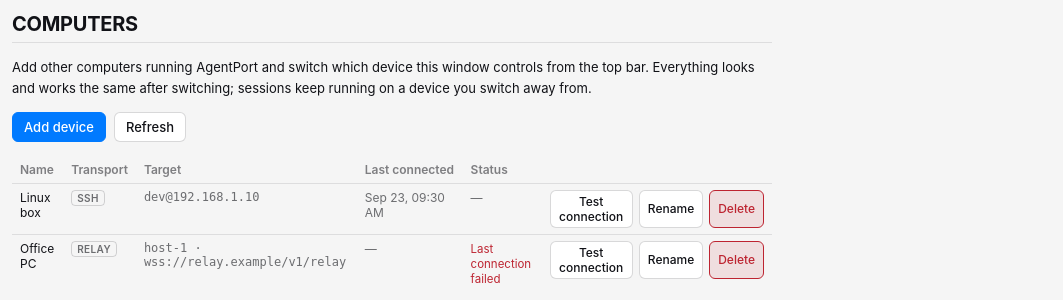
Test: renames a device inline
Expected: the text "Linux box" is shown, [12,183,63,234]
Click the button "Rename" in the row of "Linux box" at [671, 209], box [639,190,703,228]
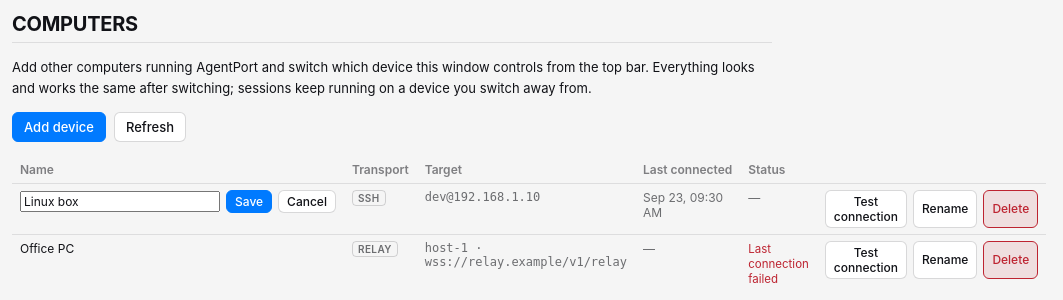
Replace the text in the field named "Device name" with "Renamed box" at [120, 201], box [20,191,220,212]
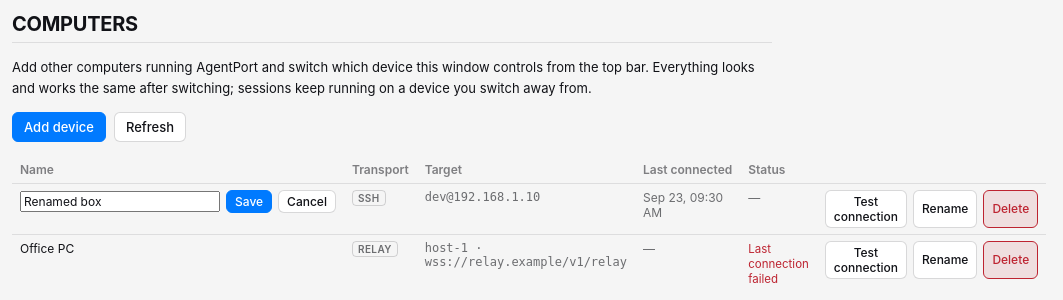
Click the button "Save" at [249, 201], box [226,190,272,213]
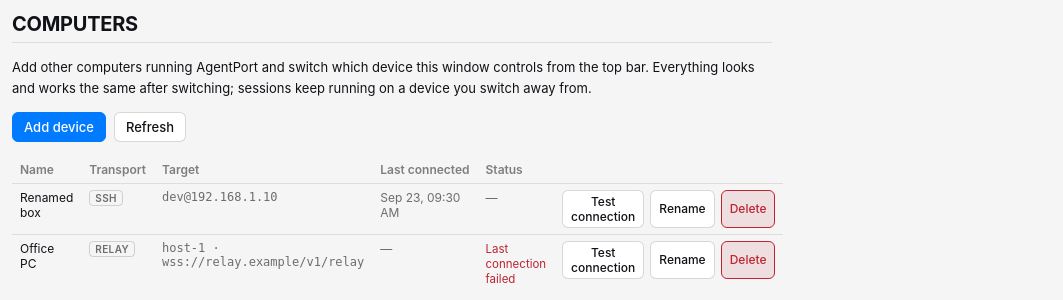
Expected: the text "Renamed box" is shown, [12,183,81,234]
